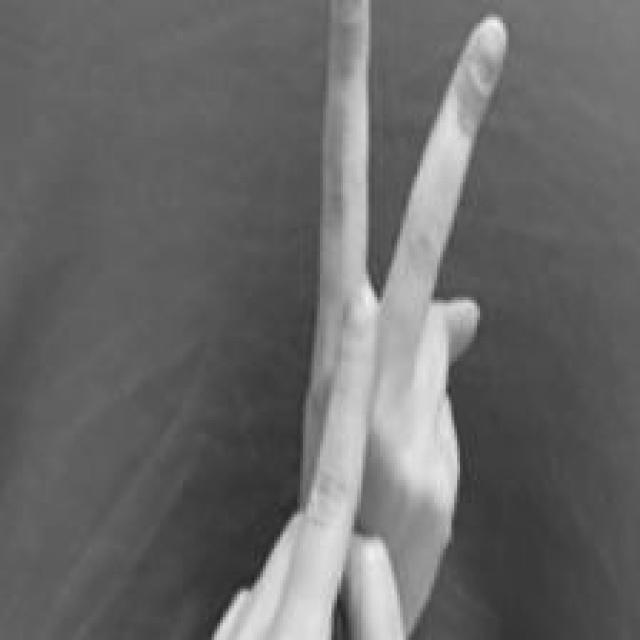Y: (208, 1, 509, 640)
